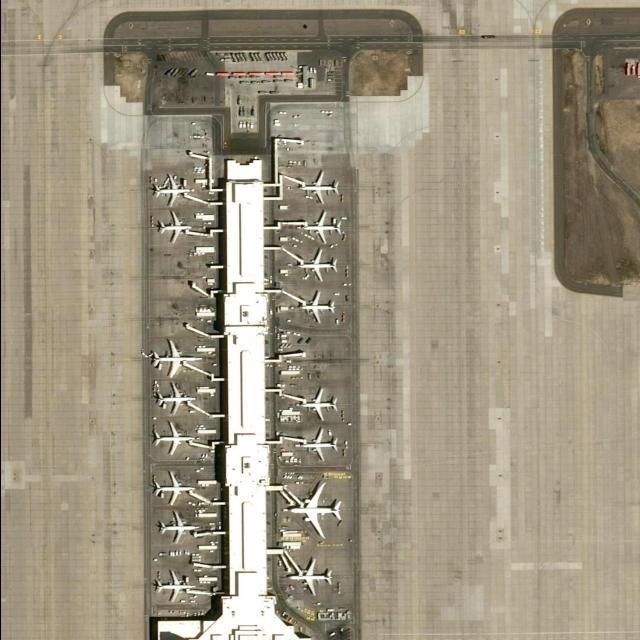Aircraft: (287, 481, 342, 541), (148, 338, 198, 378), (286, 558, 336, 597), (151, 469, 193, 507), (299, 167, 341, 205), (299, 247, 339, 283), (298, 288, 338, 324), (153, 380, 195, 414), (301, 428, 340, 463), (155, 210, 194, 245), (151, 423, 193, 455), (153, 570, 193, 603), (151, 173, 191, 206), (300, 388, 338, 422), (302, 210, 342, 242), (156, 512, 194, 544)
